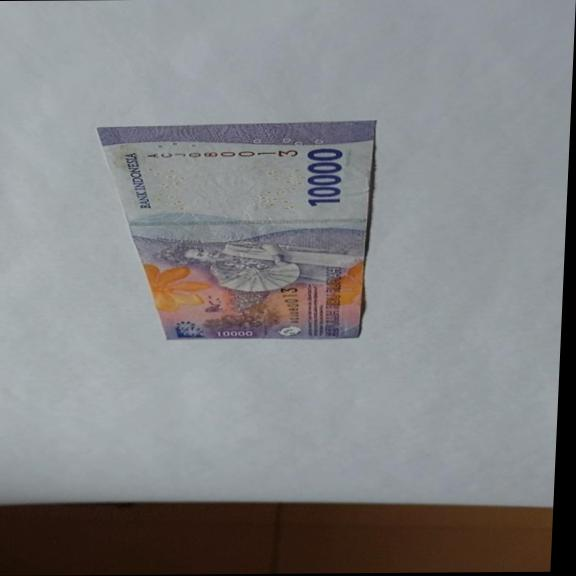Kertas: (85, 120, 378, 341), (303, 146, 345, 207)
